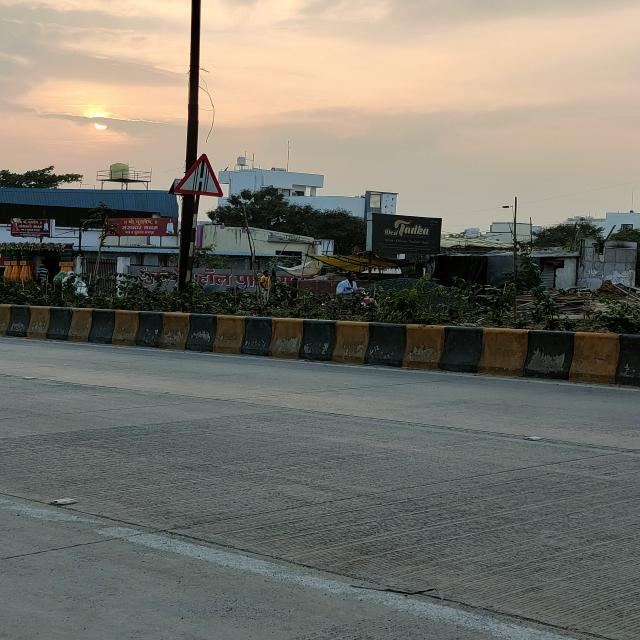ferry: (172, 153, 225, 197)
